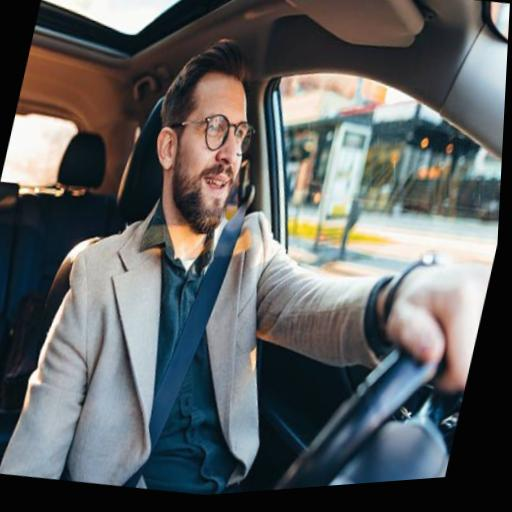Hands-on-the-Wheel: (346, 212, 499, 423)
